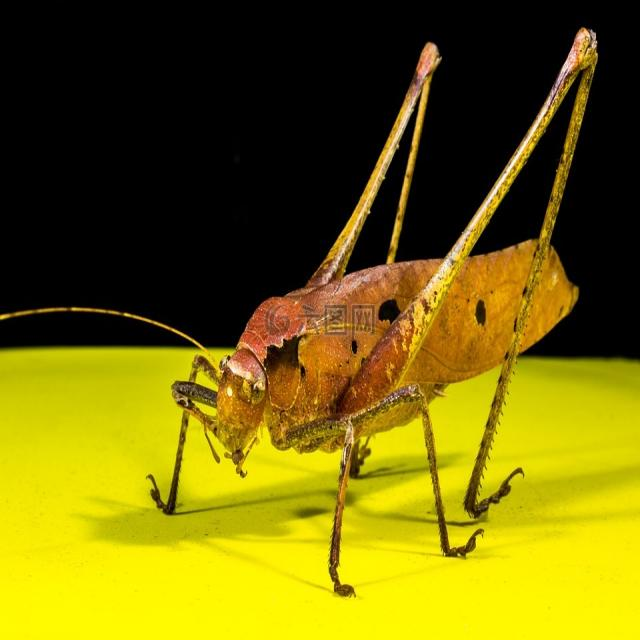ZhaMeng: (115, 22, 610, 539)
